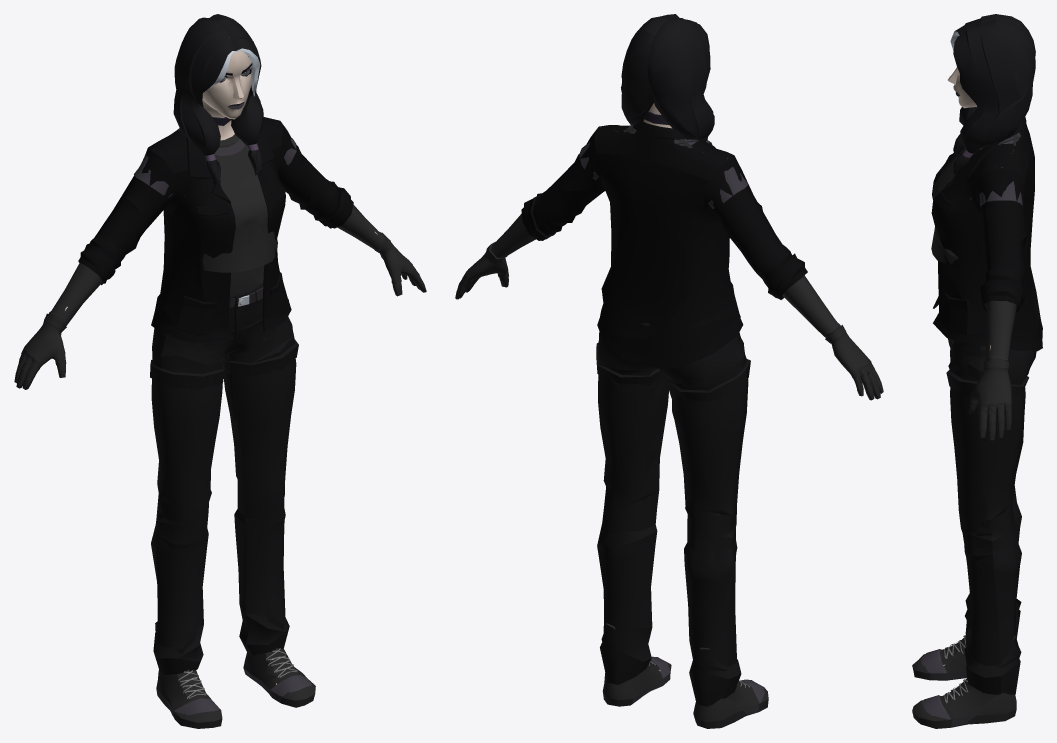
File: female 1.fbx
3 renders of one model, left to right at view 1: azimuth 30°, elevation 25°; view 2: azimuth 150°, elevation 25°; view 3: azimuth 270°, elevation 25°, orthographic. The views are drawn at different scales.
Parts seen in each view (by area): view 1: 1837; view 2: 1837; view 3: 1837.
Boxes of the visible parts, x1,y1,x2,y2 form: 1837: [14, 14, 426, 728]; 1837: [455, 14, 883, 728]; 1837: [912, 14, 1042, 728].
Bounding box in the file's own units: 1.17 × 1.84 × 0.3224.
